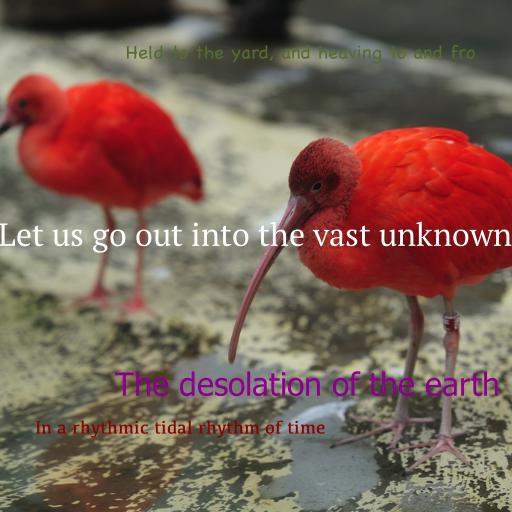Chalkboard: (125, 44, 475, 64)
Kefa: (35, 420, 325, 438)
PT Serif: (0, 221, 512, 253)
Tahoma: (114, 371, 500, 397)
